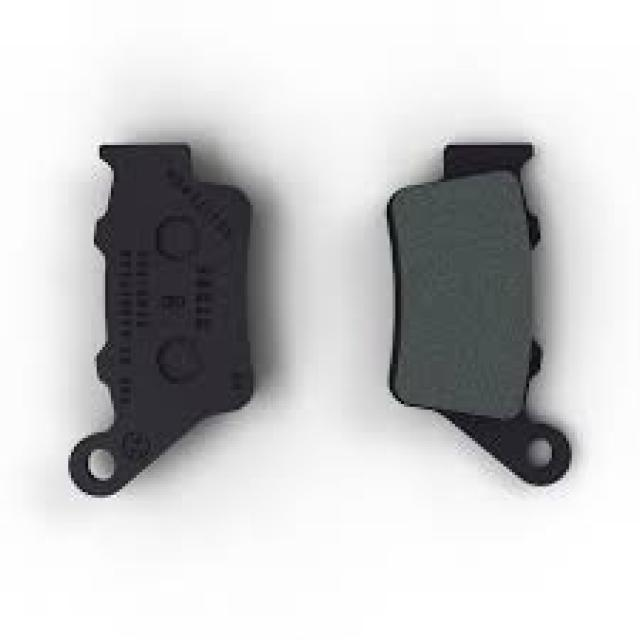brake_pad: (59, 126, 272, 513), (372, 133, 588, 500)
